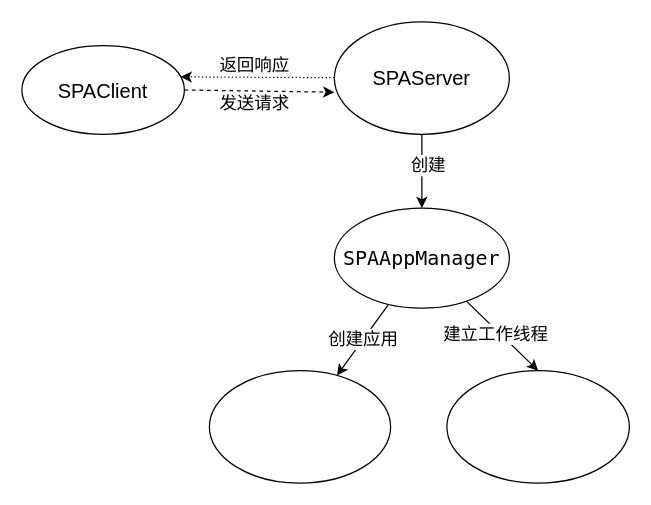
Some shapes in this 651 by 505 pixel diagram are drawn without their labels. The shapes that lost their labels are listed below. From the top down, each one's centre as x and y in pixels, then its label:
At (x=299, y=426): "SPAApp".
At (x=537, y=426): "SPAWorkThread".
